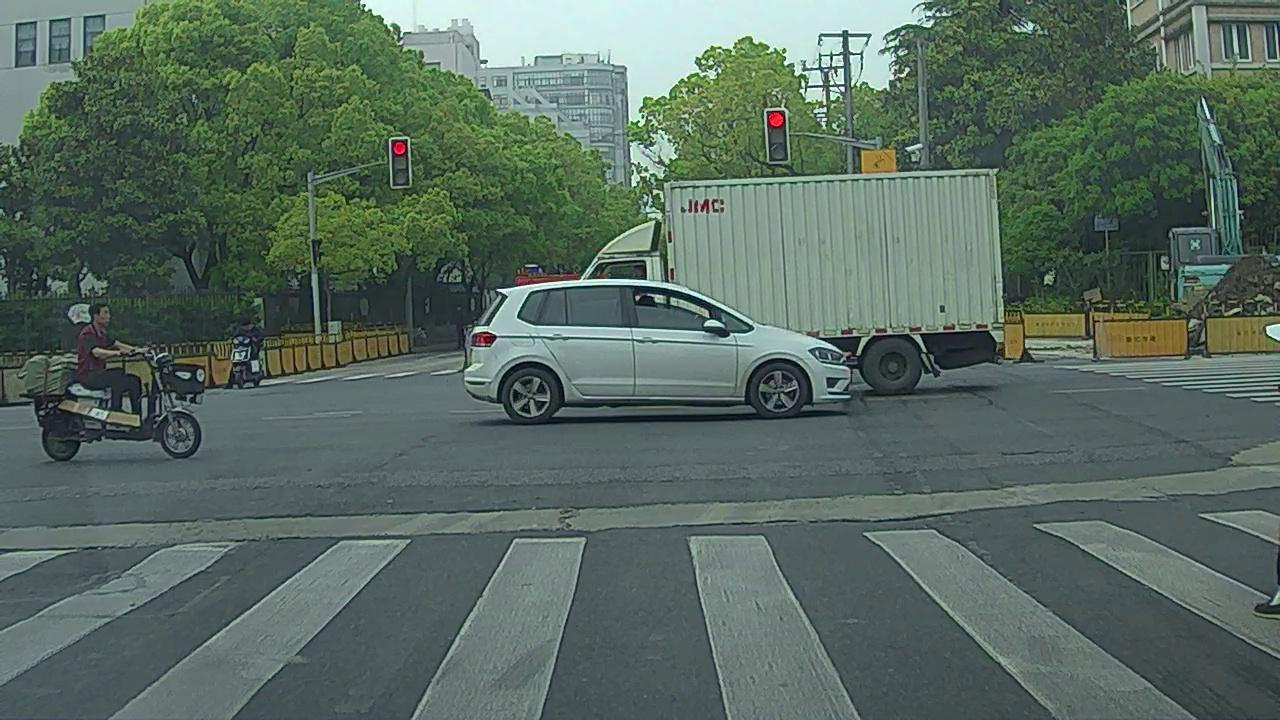traffic_light: (764, 110, 791, 163), (389, 138, 410, 187)
